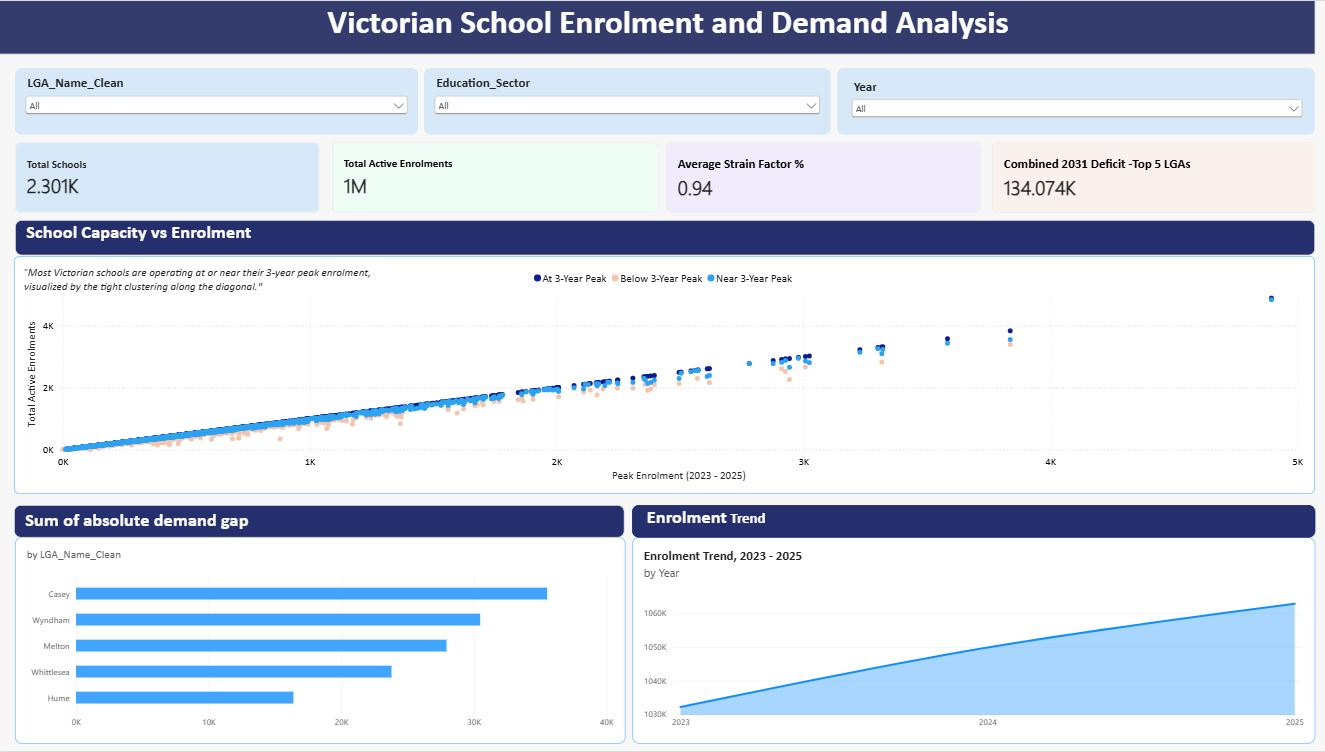

This screenshot's page, from the dashboard's own definition file:
{"tool":"powerbi","page":{"name":"Overview","canvas":[1920,1080],"ordinal":0},"visuals":[{"type":"slicer","fields":{"Values":["fact_enrolments.Year"]},"box":[1206.2,96.4,689.2,96.4],"z":0},{"type":"scatterChart","fields":{"Category":["dim_schools.School Display Name"],"Series":["fact_enrolments.Strain Category Column"],"X":["fact_enrolments.Capacity Threshold"],"Y":["fact_enrolments.Total Active Enrolments"]},"box":[20.5,367.2,1874.9,342.6],"z":1000},{"type":"clusteredBarChart","fields":{"Category":["vw_lga_demand_absolute.LGA_Name_Clean"],"Y":["Sum(vw_lga_demand_absolute.absolute_demand_gap)"]},"box":[21.1,773.1,879.8,297.7],"z":2000},{"type":"areaChart","fields":{"Category":["fact_enrolments.Year"],"Y":["fact_enrolments.Total Active Enrolments"]},"box":[911.4,773.1,985.2,297.7],"z":3000},{"type":"slicer","fields":{"Values":["dim_schools.Education_Sector"]},"box":[611.1,96.1,586.1,96.1],"z":4000},{"type":"slicer","fields":{"Values":["dim_lga.LGA_Name_Clean"]},"box":[21.1,96.1,580.8,96.1],"z":5000},{"type":"cardVisual","fields":{"Data":["fact_enrolments.Total Active Enrolments"]},"box":[477.9,203.1,469.7,102.6],"z":6000},{"type":"cardVisual","fields":{"Data":["fact_enrolments.Avg Strain Factor %"]},"box":[960.1,202.8,455.7,102.7],"z":7000},{"type":"cardVisual","fields":{"Data":["dim_lga.Top 5 Deficit Sum"]},"box":[1429.7,203.1,465.6,102.6],"z":8000},{"type":"textbox","box":[0,0,1895.4,75.9],"z":9000},{"type":"textbox","box":[34.9,381.5,510.8,53.3],"z":10000},{"type":"cardVisual","fields":{"Data":["CountNonNull(dim_schools.School_Name)"]},"box":[21.1,202.8,439.9,102.7],"z":11000},{"type":"textbox","box":[21.1,316.1,1874.2,51.4],"z":12000},{"type":"textbox","box":[20.5,726.2,880,47.2],"z":13000},{"type":"textbox","box":[910.8,726.2,984.6,47.2],"z":14000}]}

Visuals, with their boxes in screenshot pixels (x1, y1, x2, y2), scaled from the page's 1920x1080 canvas onto the 1325x752 screenshot:
slicer - fact_enrolments.Year: crop(832, 67, 1308, 134)
scatterChart - dim_schools.School Display Name x fact_enrolments.Strain Category Column: crop(14, 256, 1308, 494)
clusteredBarChart - vw_lga_demand_absolute.LGA_Name_Clean x Sum(vw_lga_demand_absolute.absolute_demand_gap): crop(15, 538, 622, 746)
areaChart - fact_enrolments.Year x fact_enrolments.Total Active Enrolments: crop(629, 538, 1309, 746)
slicer - dim_schools.Education_Sector: crop(422, 67, 826, 134)
slicer - dim_lga.LGA_Name_Clean: crop(15, 67, 415, 134)
cardVisual - fact_enrolments.Total Active Enrolments: crop(330, 141, 654, 213)
cardVisual - fact_enrolments.Avg Strain Factor %: crop(663, 141, 977, 213)
cardVisual - dim_lga.Top 5 Deficit Sum: crop(987, 141, 1308, 213)
textbox: crop(0, 0, 1308, 53)
textbox: crop(24, 266, 377, 303)
cardVisual - CountNonNull(dim_schools.School_Name): crop(15, 141, 318, 213)
textbox: crop(15, 220, 1308, 256)
textbox: crop(14, 506, 621, 539)
textbox: crop(629, 506, 1308, 539)
